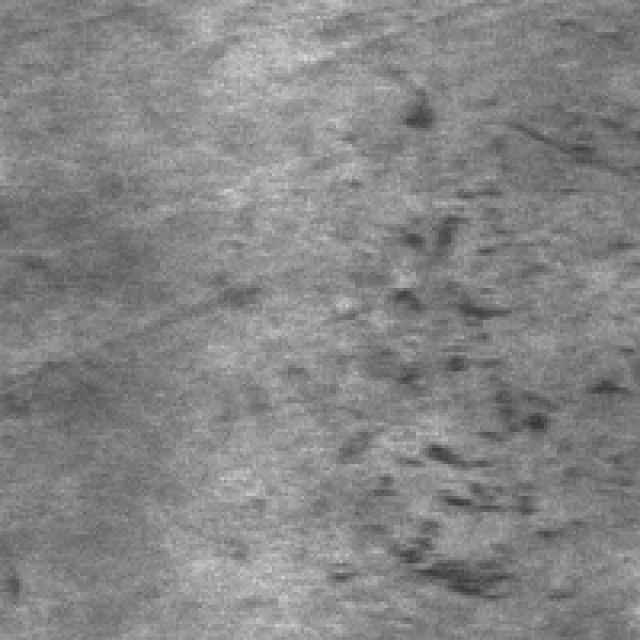rolled-in_scale: (320, 102, 598, 614)
